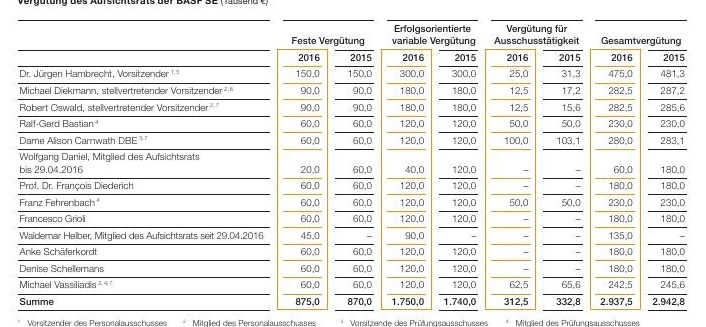table: (0, 0, 706, 327)
